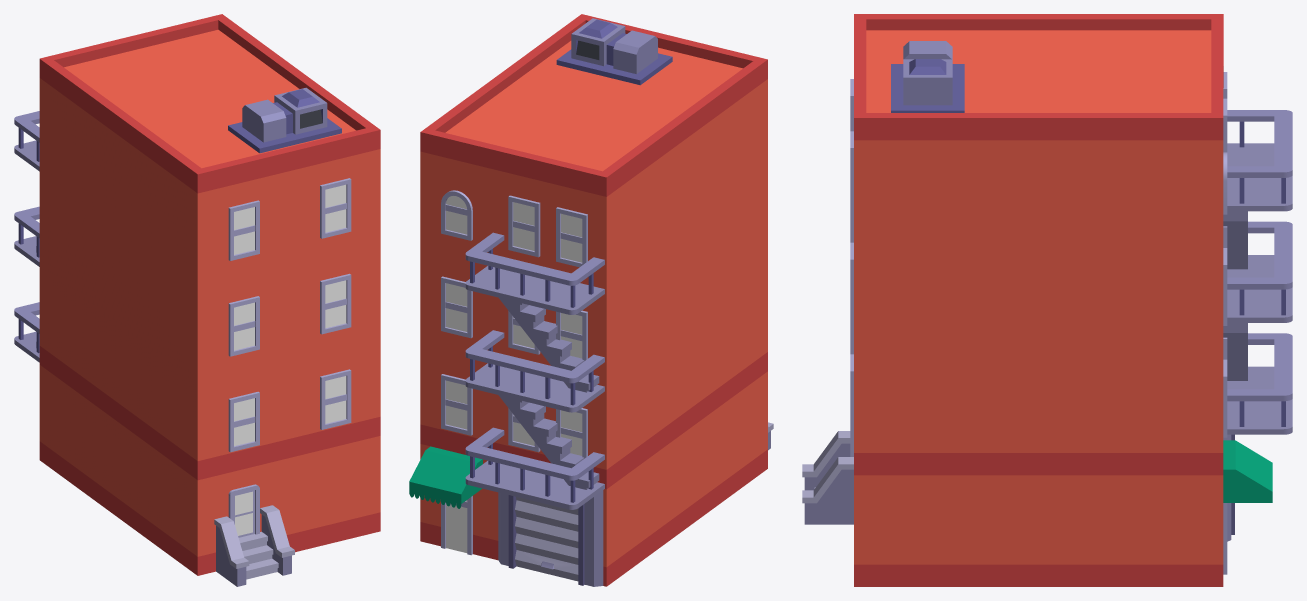
File: Building_03.fbx
3 views of the same model, side by side, from view 1: azimuth 30°, elevation 25°; view 2: azimuth 150°, elevation 25°; view 3: azimuth 270°, elevation 25° (orthographic). The views are drawn at different scales.
Parts seen in each view (by area): view 1: mergedBlocks; view 2: mergedBlocks; view 3: mergedBlocks.
Part boxes in pixels (<box>): mergedBlocks: <box>14,14,380,586</box>; mergedBlocks: <box>409,14,773,586</box>; mergedBlocks: <box>802,14,1292,586</box>.
Size of the model in its own units: 100 by 222 by 199.
